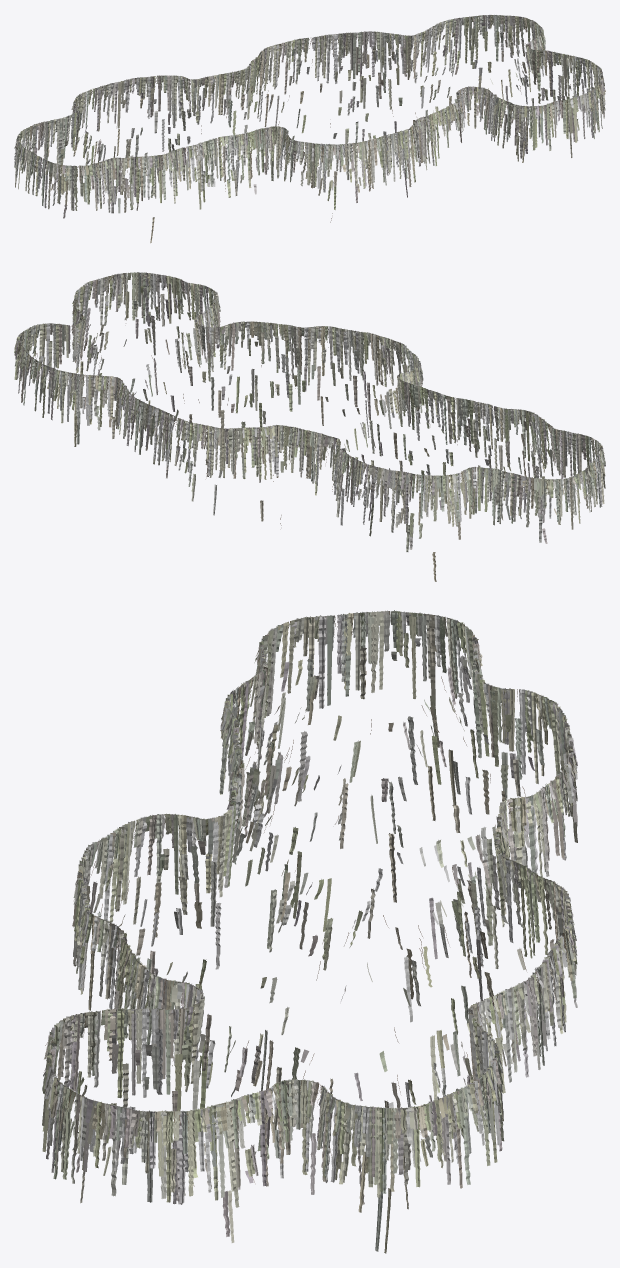
The model's file is SM_H16_Vines.fbx.
The picture shows the model from 3 angles, top to bottom: view 1: azimuth 30°, elevation 25°; view 2: azimuth 150°, elevation 25°; view 3: azimuth 270°, elevation 25°; orthographic projection. The views are drawn at different scales.
Parts seen in each view (by area): view 1: SM_H16_Vines; view 2: SM_H16_Vines; view 3: SM_H16_Vines.
Part boxes in pixels (x1=…): SM_H16_Vines: x1=14, y1=15, x2=605, y2=243; SM_H16_Vines: x1=14, y1=272, x2=605, y2=581; SM_H16_Vines: x1=42, y1=610, x2=577, y2=1253.
Bounding box in the file's own units: 342 × 86.31 × 153.
